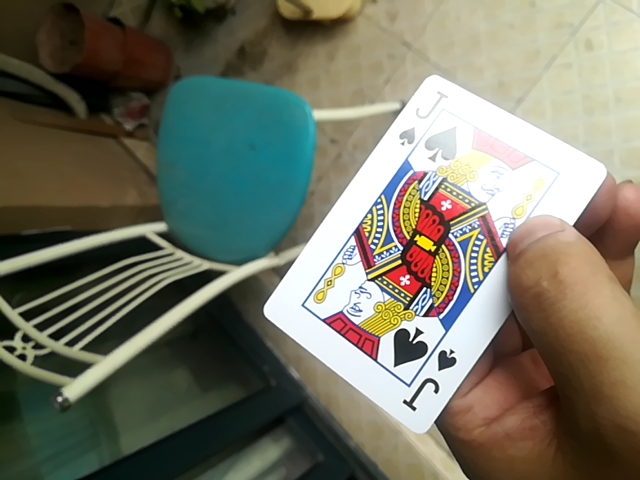ht j: (250, 76, 614, 444)
